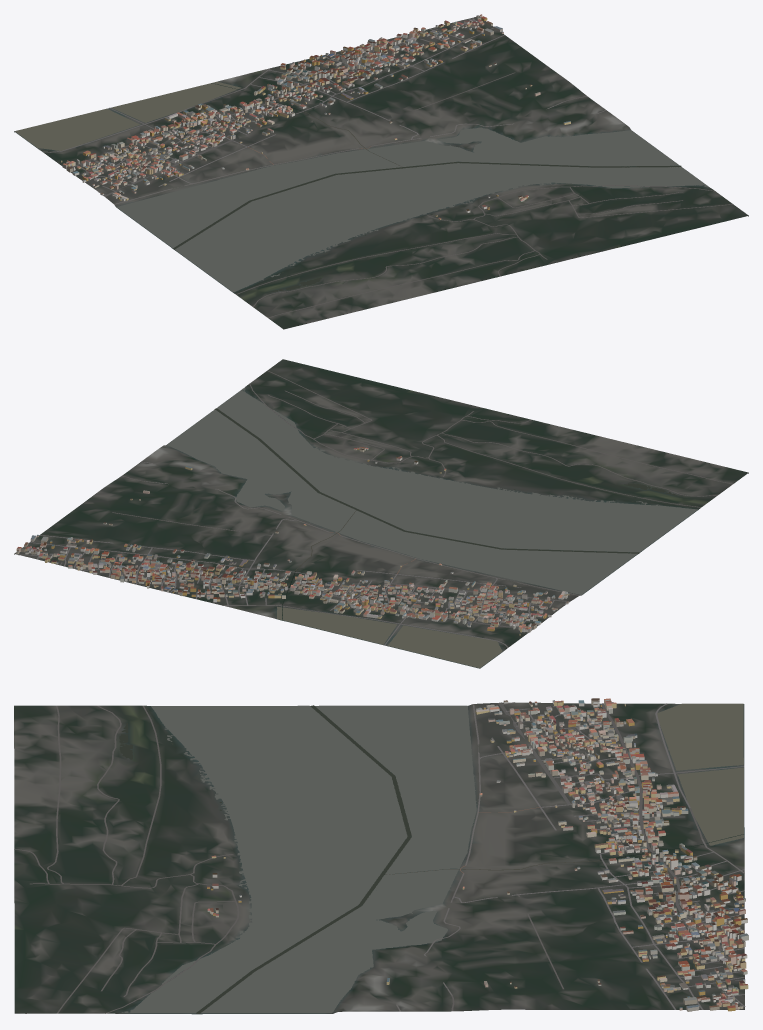
3 renders of one model, top to bottom at view 1: azimuth 30°, elevation 25°; view 2: azimuth 150°, elevation 25°; view 3: azimuth 270°, elevation 25°, orthographic. The views are drawn at different scales.
Visible parts, largest first — view 1: ground, water, buildings, roads; view 2: ground, water, buildings, roads; view 3: ground, water, buildings, roads.
Boxes of the visible parts, <box> form: ground: <box>14,17,748,329</box>; water: <box>15,81,709,292</box>; buildings: <box>61,14,570,219</box>; roads: <box>42,17,744,317</box>; ground: <box>14,359,748,668</box>; water: <box>167,387,697,668</box>; buildings: <box>16,446,569,635</box>; roads: <box>18,362,733,647</box>; ground: <box>14,702,744,1014</box>; water: <box>119,703,744,1014</box>; buildings: <box>207,698,748,1011</box>; roads: <box>14,702,745,1013</box>.
Bounding box in the file's own units: 1411 × 27.62 × 1411.
